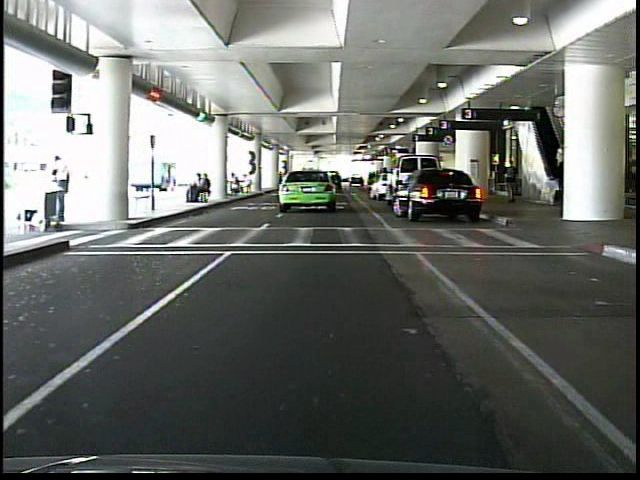person: (45, 153, 78, 229), (502, 158, 520, 207)
